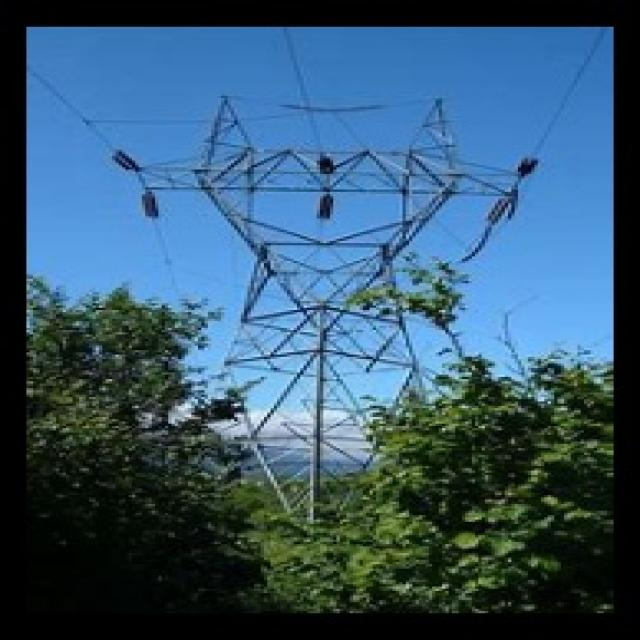utility poles: (69, 242, 302, 596), (358, 240, 571, 600)
